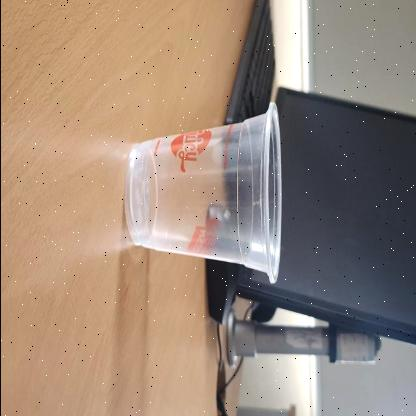Others: (124, 100, 280, 284)
